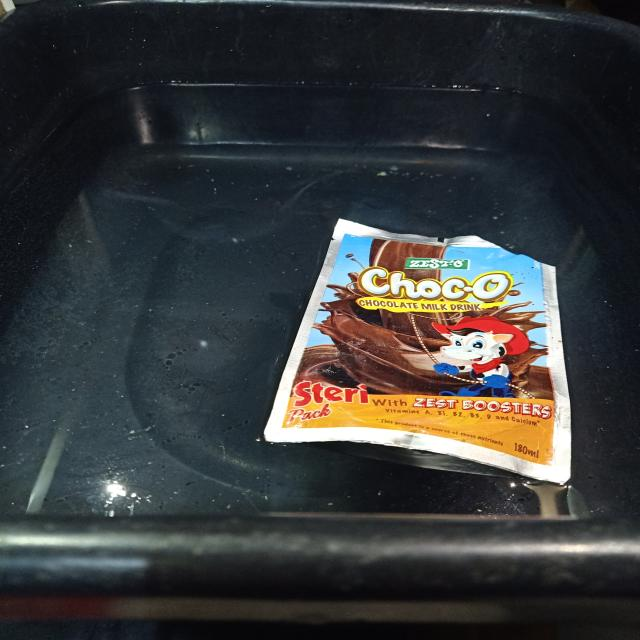Plastic Pouch: (264, 219, 571, 517)
